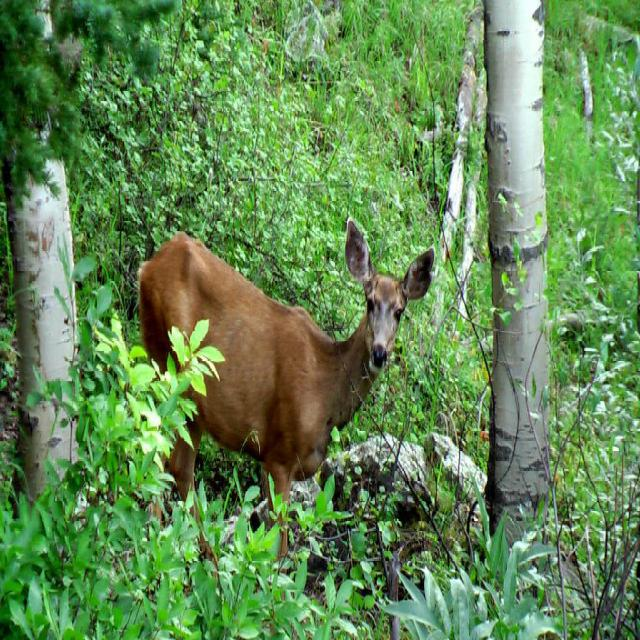Deer: (140, 214, 437, 538)
